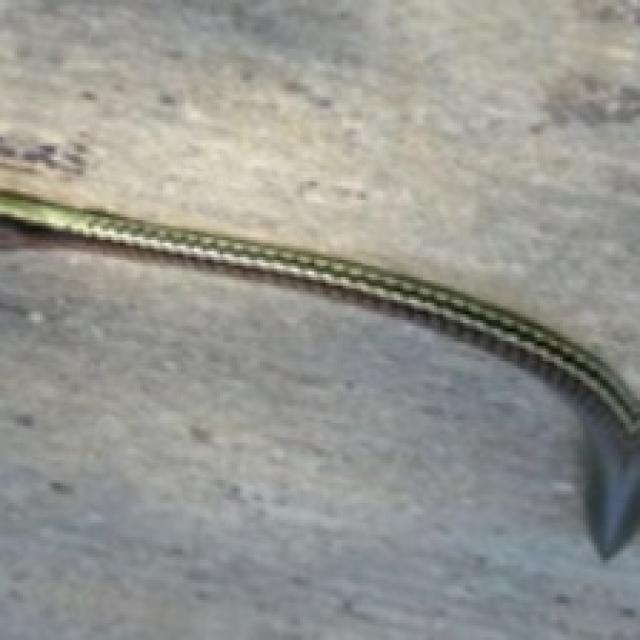philippine bronzeback treesnake: (0, 189, 637, 554)
